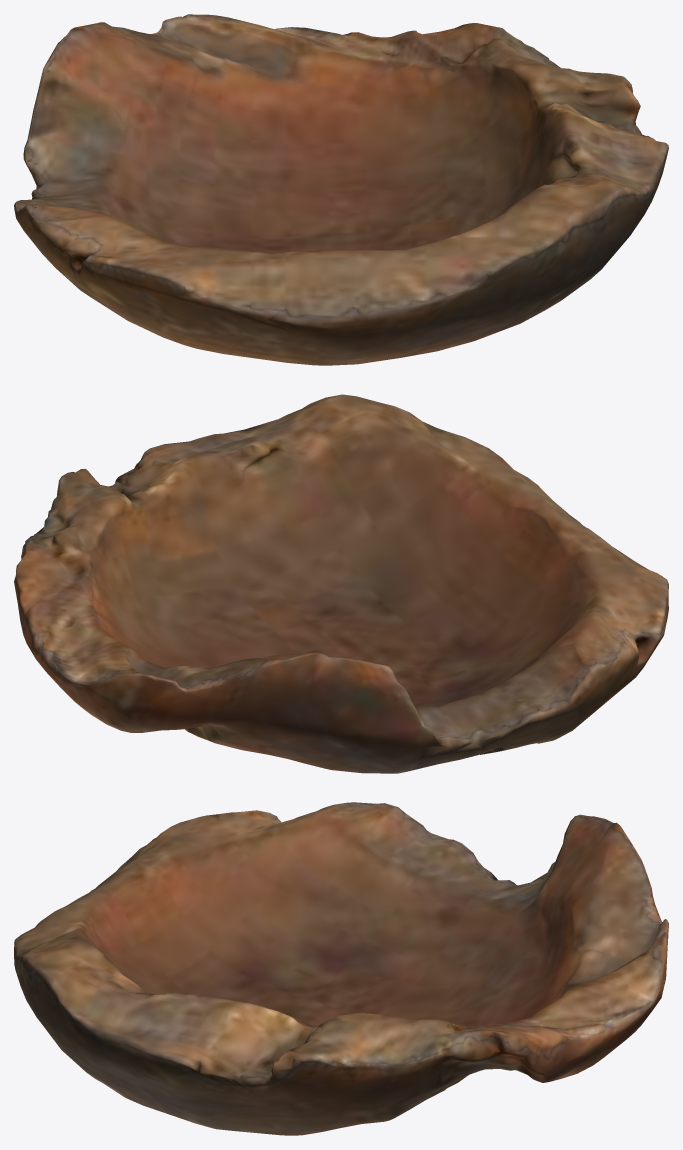
The model's file is bowl-wooden-01.lite.6f3f9f1f.glb.
3 views of the same model, one above another, from view 1: azimuth 30°, elevation 25°; view 2: azimuth 150°, elevation 25°; view 3: azimuth 270°, elevation 25° (orthographic). The views are drawn at different scales.
Parts seen in each view (by area): view 1: model; view 2: model; view 3: model.
Boxes of the visible parts, bbox=[...] form: model: bbox=[14, 14, 668, 365]; model: bbox=[14, 394, 668, 773]; model: bbox=[14, 802, 668, 1135].
Bounding box in the file's own units: 0.313 × 0.0937 × 0.3091.
1 material, 1 textured.
